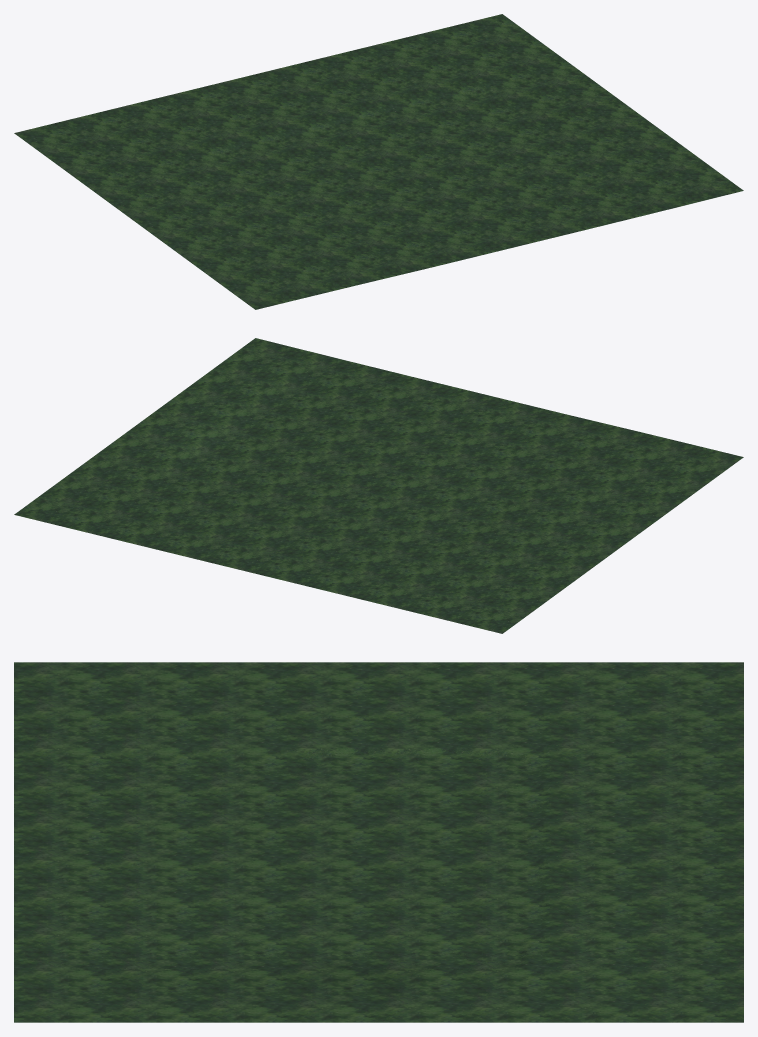
File: hisanoie_Terrain.fbx
3 views of the same model, one above another, from view 1: azimuth 30°, elevation 25°; view 2: azimuth 150°, elevation 25°; view 3: azimuth 270°, elevation 25° (orthographic). The views are drawn at different scales.
Visible parts, largest first — view 1: SM_020_Ground_01a; view 2: SM_020_Ground_01a; view 3: SM_020_Ground_01a.
Boxes of the visible parts, x1,y1,x2,y2 form: SM_020_Ground_01a: [14, 14, 743, 309]; SM_020_Ground_01a: [14, 338, 743, 633]; SM_020_Ground_01a: [14, 662, 743, 1022].
Bounding box in the file's own units: 3900 × 10.1 × 3340.
